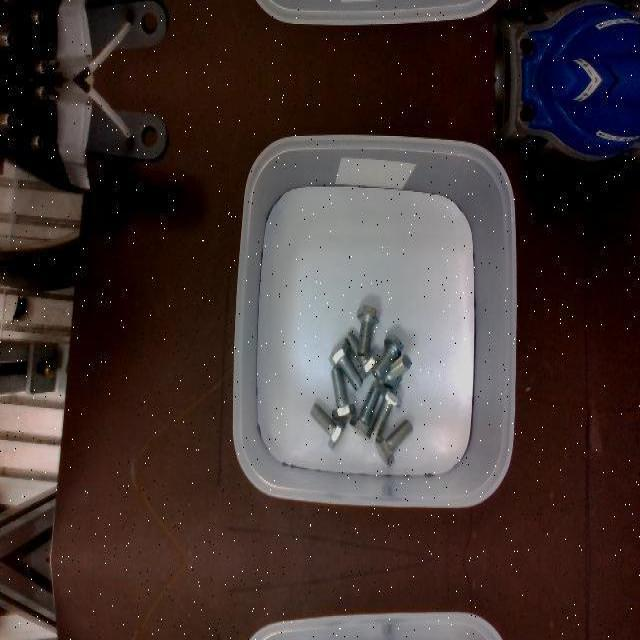screw: (375, 418, 413, 464), (329, 338, 362, 390), (309, 401, 346, 447), (350, 383, 378, 437), (372, 384, 402, 434), (373, 334, 405, 380), (331, 368, 357, 420), (356, 304, 379, 354)
